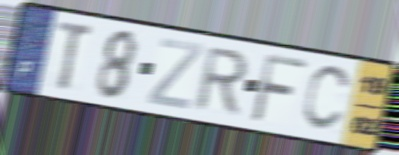8: (94, 27, 140, 101)
C: (299, 64, 354, 134)
F: (248, 51, 310, 127)
R: (190, 45, 252, 118)
T: (55, 18, 97, 92)
Z: (144, 36, 206, 113)
